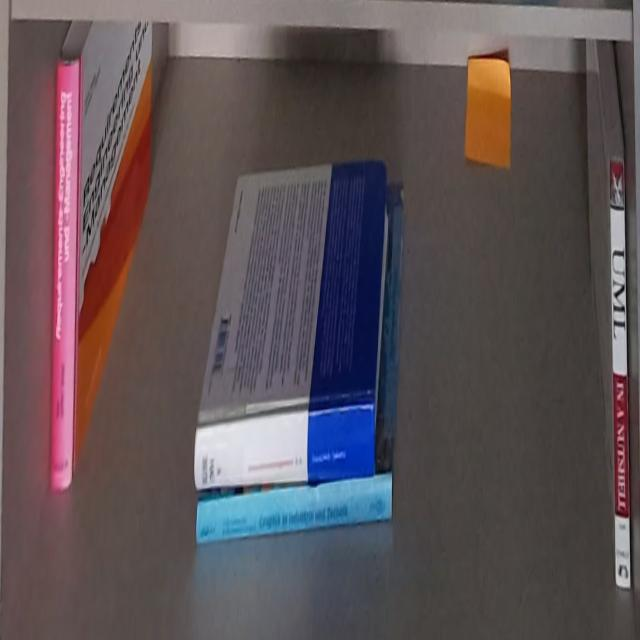Book Spine: (196, 471, 393, 549), (194, 406, 374, 490), (51, 59, 78, 496), (608, 155, 631, 593)
